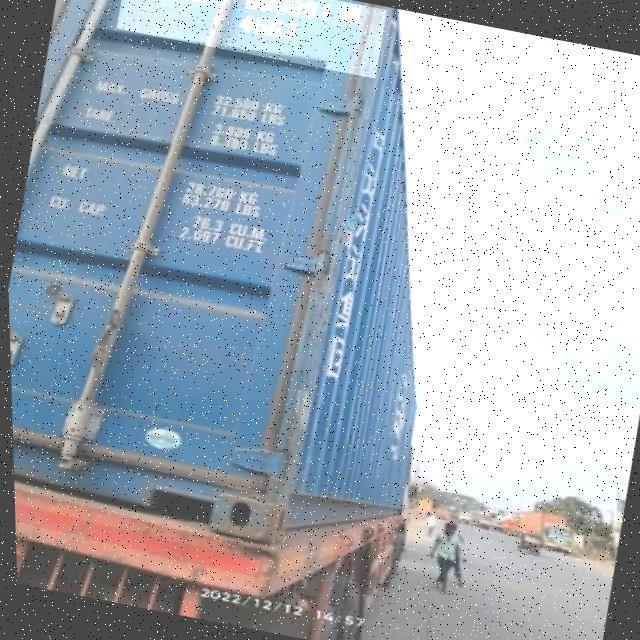container_number_h: (115, 0, 388, 79)
